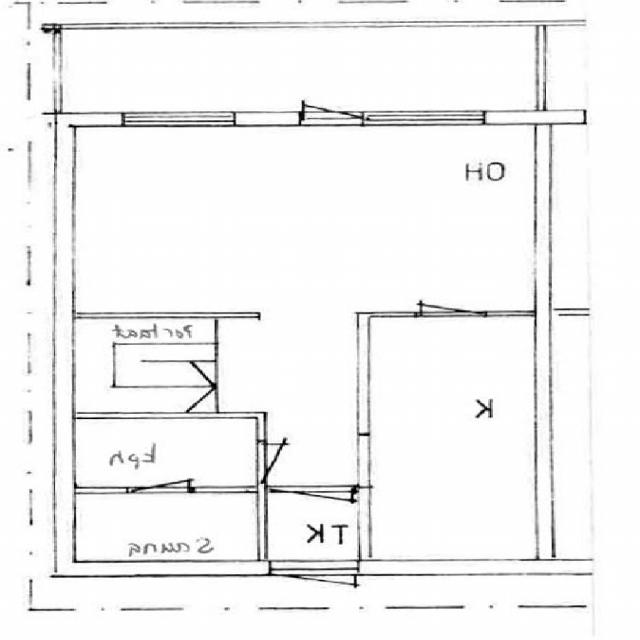door: (270, 560, 356, 634), (273, 485, 354, 547), (303, 69, 364, 124), (422, 270, 484, 317), (132, 446, 191, 492), (258, 444, 325, 482)
